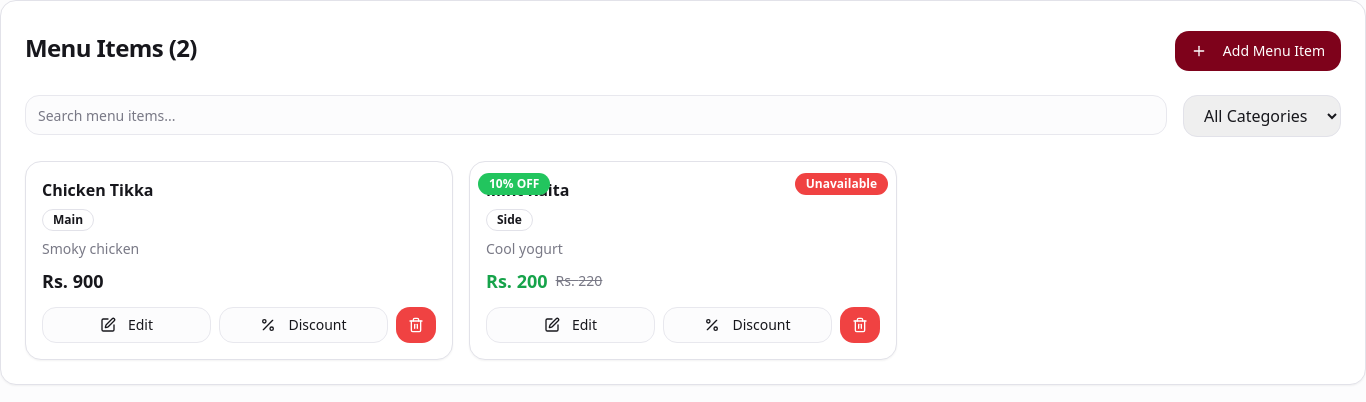
Test case: MenuItemManagement › filters menu items by search text
In the field with placeholder "Search menu items...": (596,115) [25, 95, 1167, 135], type "raita"
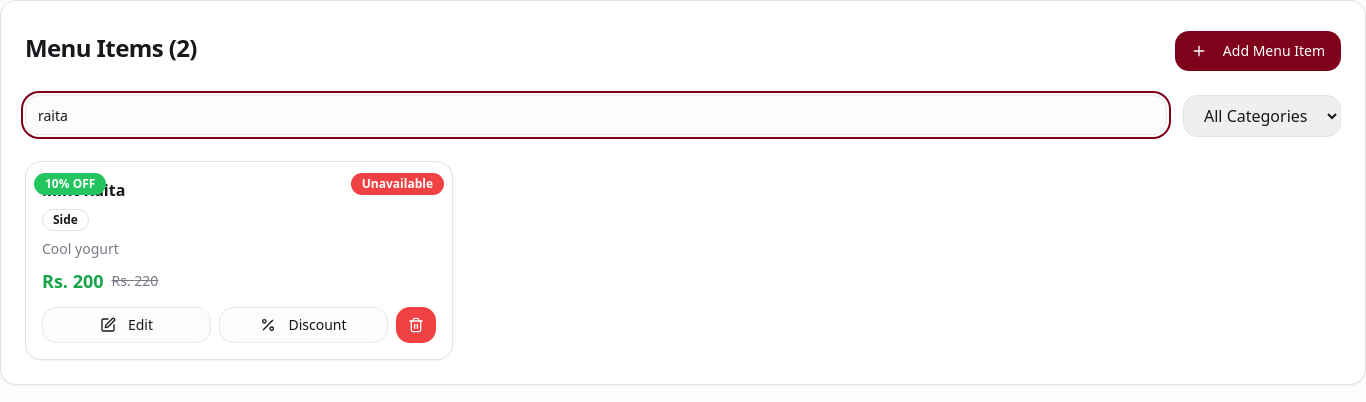
Expected: the heading "Mint Raita" is shown, [42, 179, 125, 201]
Expected: the heading "Chicken Tikka" is gone
